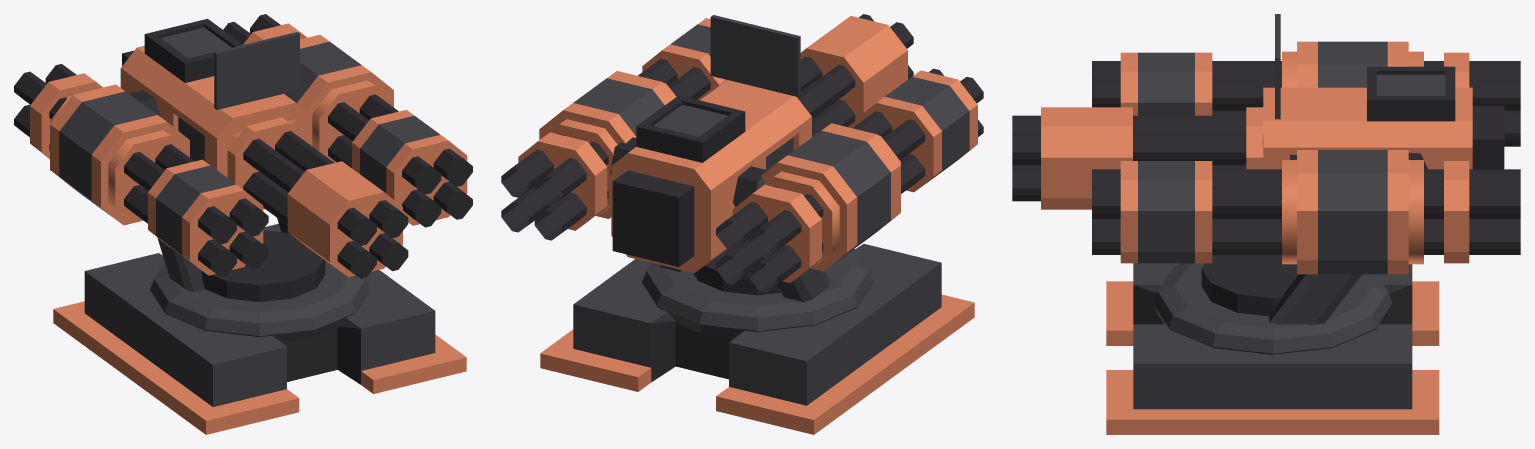
The model's file is RapidDoubleBarrel.fbx.
3 renders of one model, left to right at view 1: azimuth 30°, elevation 25°; view 2: azimuth 150°, elevation 25°; view 3: azimuth 270°, elevation 25°, orthographic. The views are drawn at different scales.
Visible parts, largest first — view 1: Cube.049, Cylinder.031, Cylinder.034, Cylinder.036, Cylinder.032, Cylinder.035, Cylinder.033; view 2: Cylinder.031, Cube.049, Cylinder.034, Cylinder.032, Cylinder.036, Cylinder.035, Cylinder.033; view 3: Cylinder.031, Cube.049, Cylinder.032, Cylinder.036, Cylinder.034, Cylinder.033, Cylinder.035.
Part boxes in pixels (left/top/right/bottom): Cube.049: left=53, top=223, right=466, bottom=434; Cylinder.031: left=120, top=18, right=369, bottom=341; Cylinder.034: left=14, top=64, right=268, bottom=277; Cylinder.036: left=227, top=117, right=408, bottom=278; Cylinder.032: left=223, top=14, right=472, bottom=227; Cylinder.035: left=50, top=84, right=189, bottom=225; Cylinder.033: left=284, top=34, right=393, bottom=145; Cylinder.031: left=610, top=15, right=872, bottom=337; Cube.049: left=540, top=244, right=974, bottom=434; Cylinder.034: left=716, top=68, right=983, bottom=292; Cylinder.032: left=501, top=18, right=726, bottom=240; Cylinder.036: left=797, top=14, right=913, bottom=136; Cylinder.035: left=760, top=123, right=900, bottom=271; Cylinder.033: left=539, top=71, right=674, bottom=218; Cylinder.031: left=1153, top=14, right=1504, bottom=354; Cube.049: left=1106, top=263, right=1439, bottom=434; Cylinder.032: left=1092, top=160, right=1520, bottom=264; Cylinder.036: left=1012, top=107, right=1263, bottom=209; Cylinder.034: left=1092, top=51, right=1520, bottom=146; Cylinder.033: left=1297, top=150, right=1408, bottom=274; Cylinder.035: left=1297, top=41, right=1408, bottom=87.
Bounding box in the file's own units: 201 × 198 × 277.
